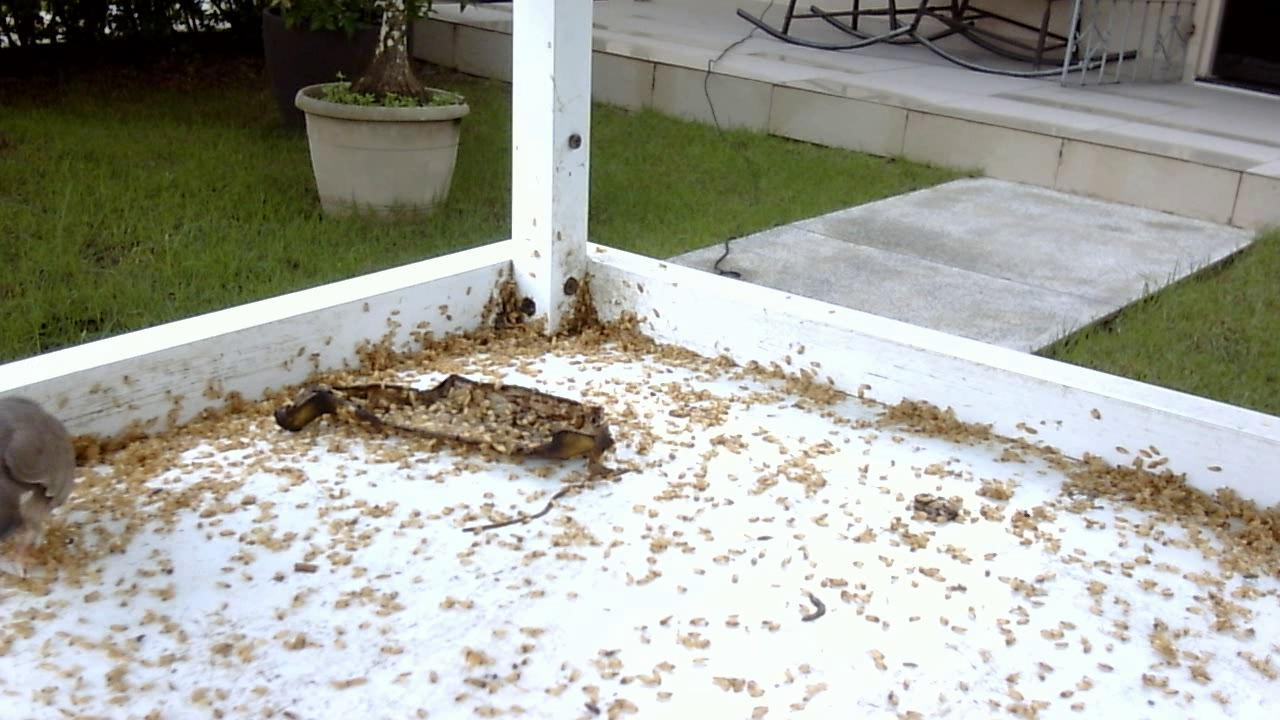rolinha: (1, 390, 81, 557)
